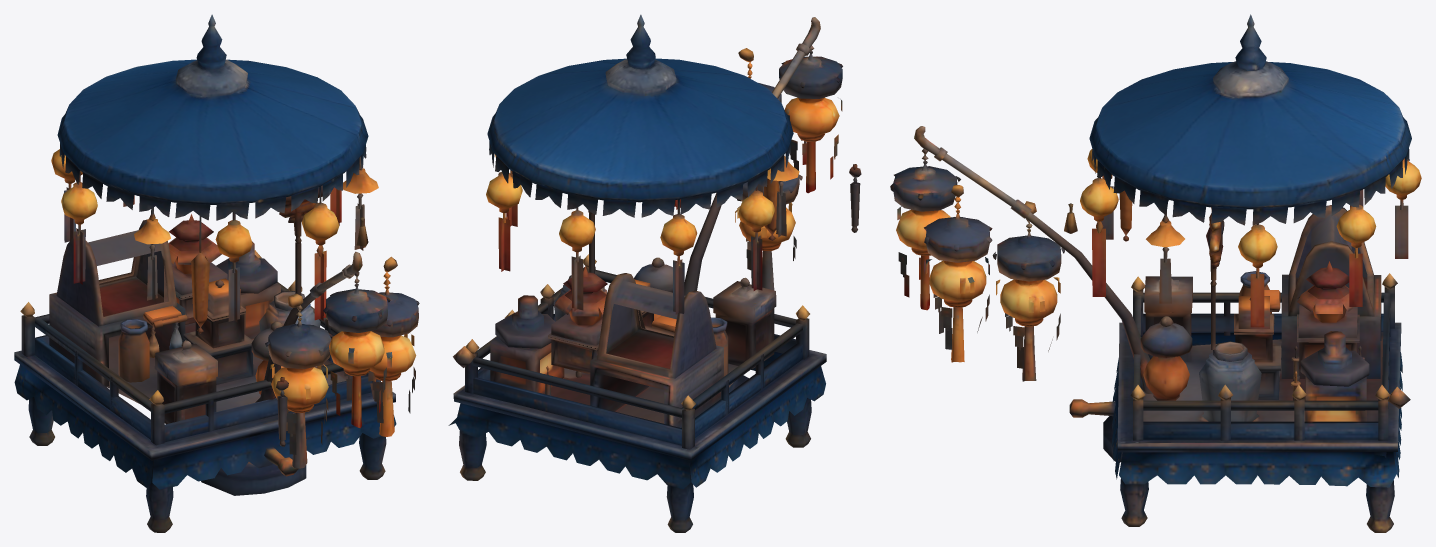
The picture shows the model from 3 angles, left to right: view 1: azimuth 30°, elevation 25°; view 2: azimuth 150°, elevation 25°; view 3: azimuth 270°, elevation 25°; orthographic projection. The views are drawn at different scales.
Visible parts, largest first — view 1: tripo_node_ce6a87ce-73b1-4047-bcdd-ef2d992da65c; view 2: tripo_node_ce6a87ce-73b1-4047-bcdd-ef2d992da65c; view 3: tripo_node_ce6a87ce-73b1-4047-bcdd-ef2d992da65c.
Part boxes in pixels (x1,y1,x2,y2): tripo_node_ce6a87ce-73b1-4047-bcdd-ef2d992da65c: [14, 14, 419, 532]; tripo_node_ce6a87ce-73b1-4047-bcdd-ef2d992da65c: [448, 14, 861, 532]; tripo_node_ce6a87ce-73b1-4047-bcdd-ef2d992da65c: [890, 14, 1421, 532].
Bounding box in the file's own units: 0.2583 × 0.3882 × 0.4053.
1 material, 1 textured.
